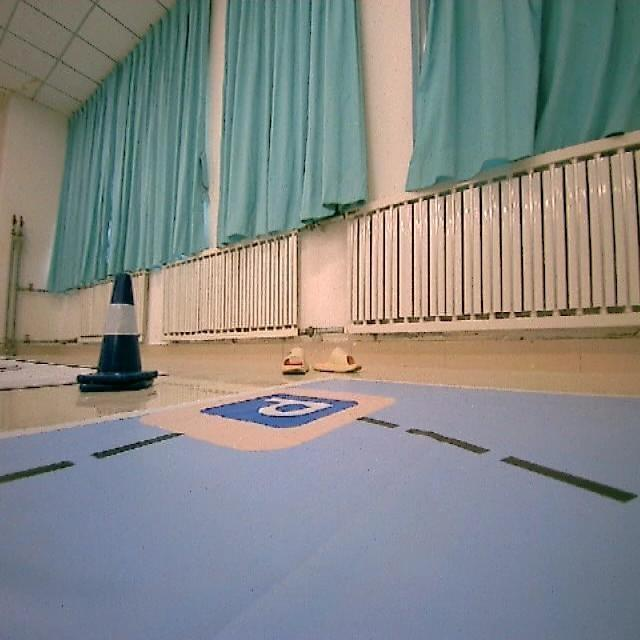obstacle: (77, 264, 173, 404)
